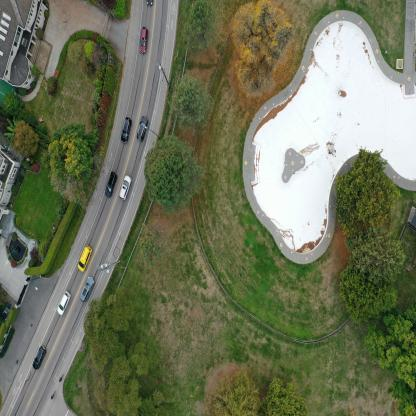Coniferous Tree: (339, 150, 397, 247), (229, 3, 288, 94), (144, 137, 205, 219), (87, 305, 145, 368), (102, 364, 166, 416), (336, 266, 404, 309), (209, 364, 261, 416), (342, 235, 412, 266), (173, 77, 209, 128), (268, 367, 305, 416), (139, 220, 166, 272), (188, 8, 215, 57), (13, 124, 40, 158)
Deciduous Tree: (360, 316, 416, 416), (52, 138, 86, 182), (100, 0, 118, 15)
